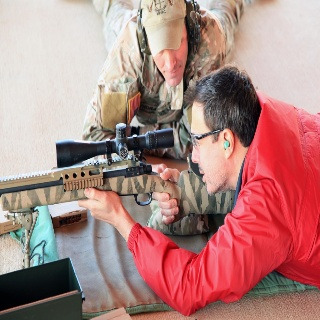rifle: (1, 120, 241, 223)
